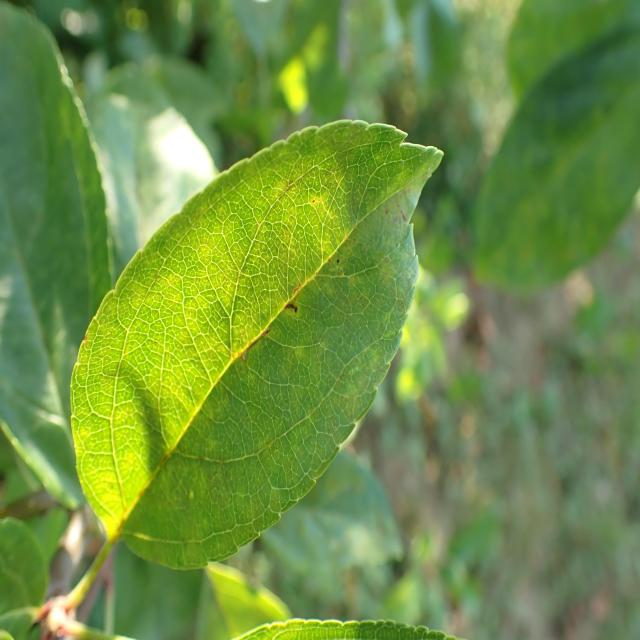scab: (75, 136, 421, 564)
